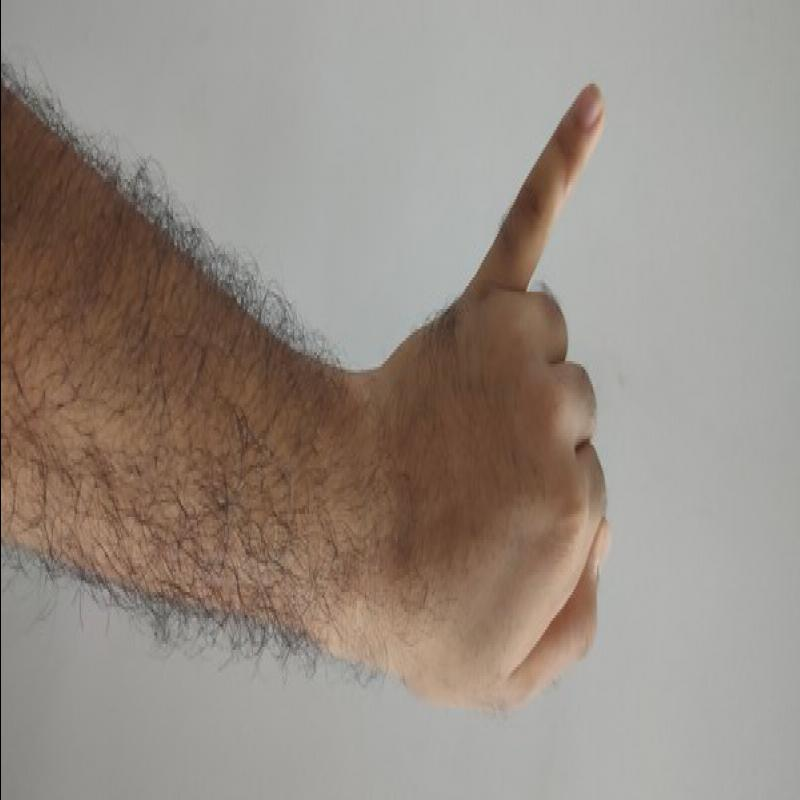Kartharee Mukham: (351, 68, 633, 738)
